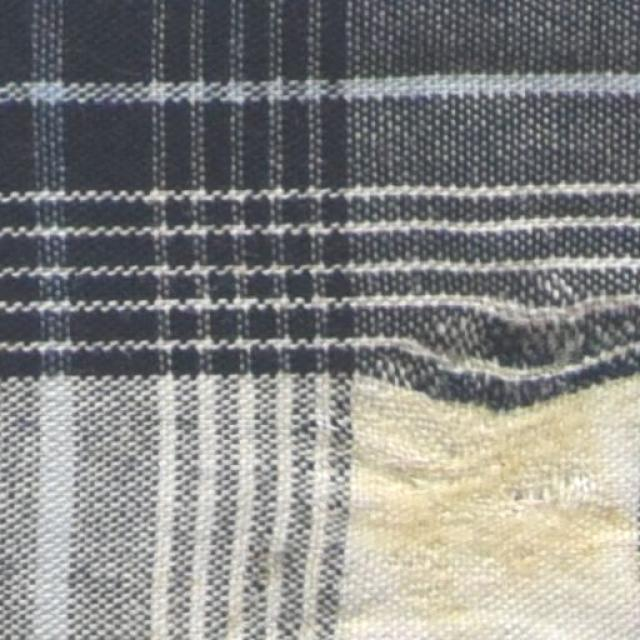Stain: (329, 293, 619, 572)
